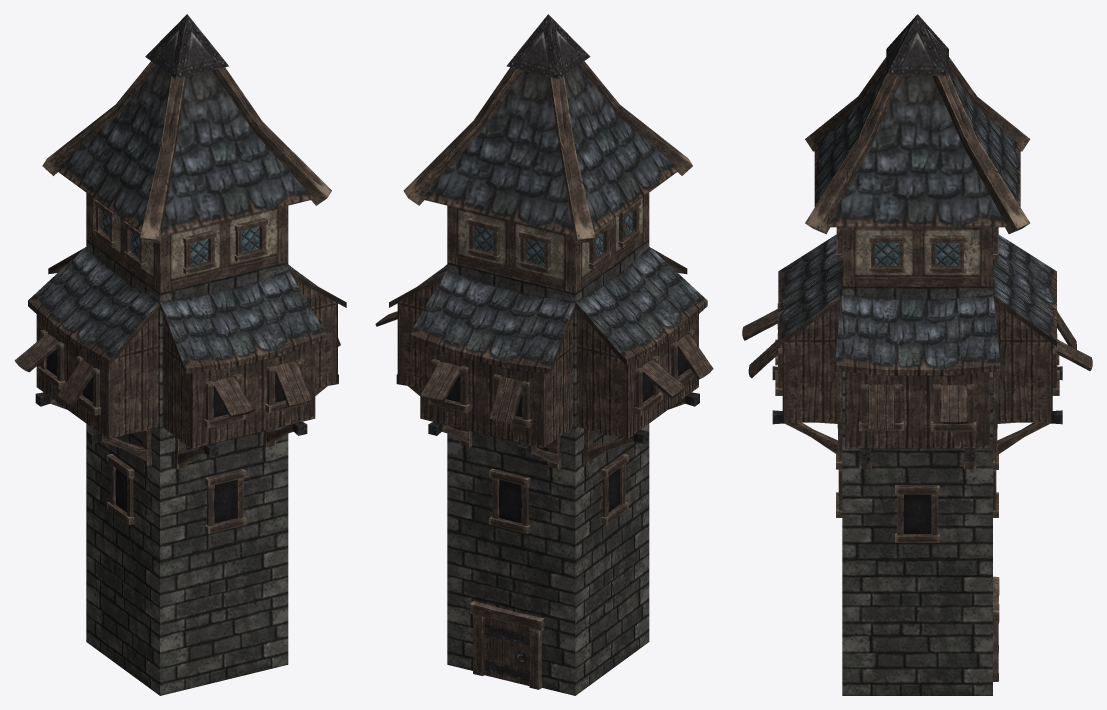
Rendered from HOS0110031.fbx.
3 renders of one model, left to right at view 1: azimuth 30°, elevation 25°; view 2: azimuth 150°, elevation 25°; view 3: azimuth 270°, elevation 25°, orthographic.
Parts seen in each view (by area): view 1: smHOS0110031; view 2: smHOS0110031; view 3: smHOS0110031.
Boxes of the visible parts, <box> form: smHOS0110031: <box>14,14,346,695</box>; smHOS0110031: <box>375,14,713,695</box>; smHOS0110031: <box>742,14,1092,695</box>.
Size of the model in its own units: 1058 by 2168 by 1059.
Materials: 1 (1 with a texture image).
